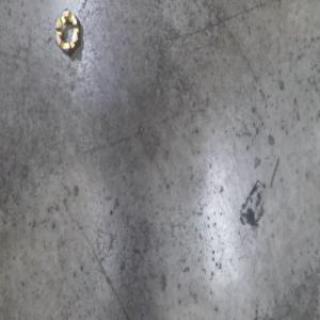Nuttrack_idkeyframe: (53, 9, 82, 59)
